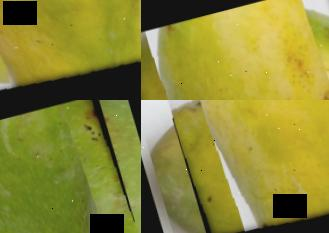PartiallyRipe: (163, 100, 329, 233), (141, 0, 329, 100), (0, 0, 141, 100)
Unripe: (0, 100, 141, 233)
